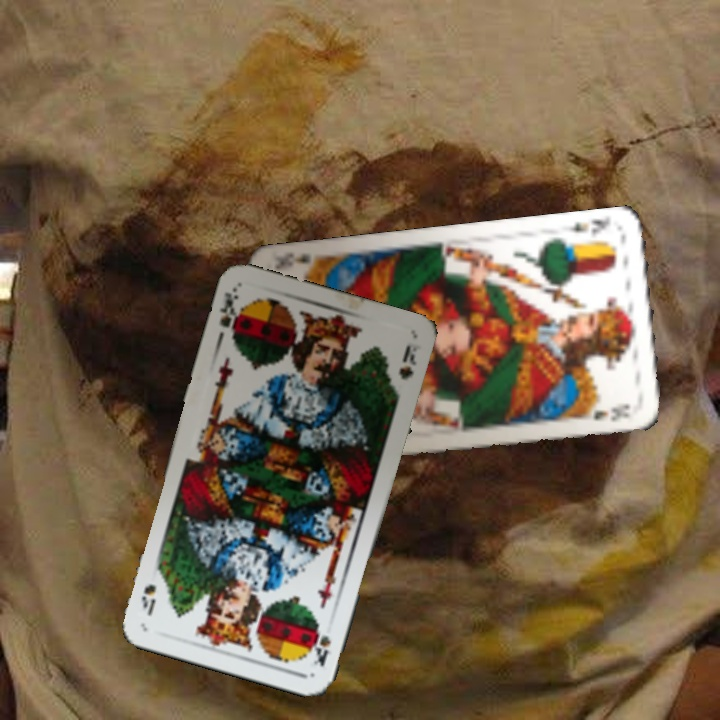EK: (560, 215, 612, 240)
SK: (215, 285, 245, 342), (309, 626, 334, 669)
